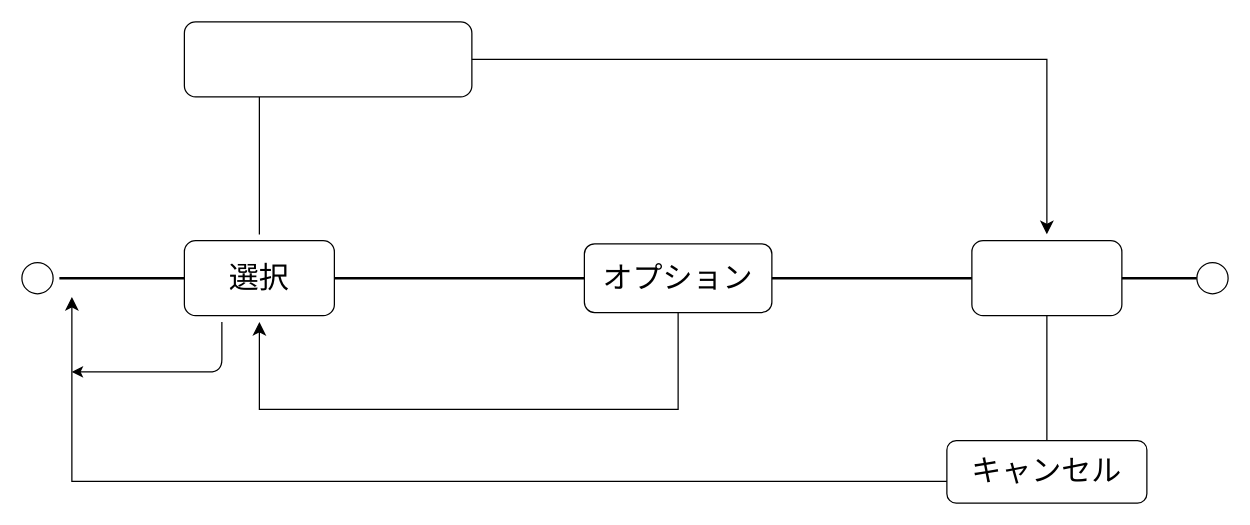
Image size: 1250x525. Some labels were removed from this diagram. Each missing label, with the centre of its shape:
"オプションなし" goes at pixel 327 59.
"確認" goes at pixel 1046 277.
